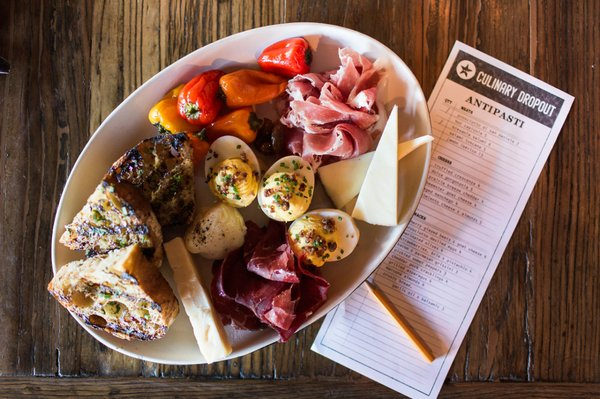sandwich: (163, 236, 234, 361)
